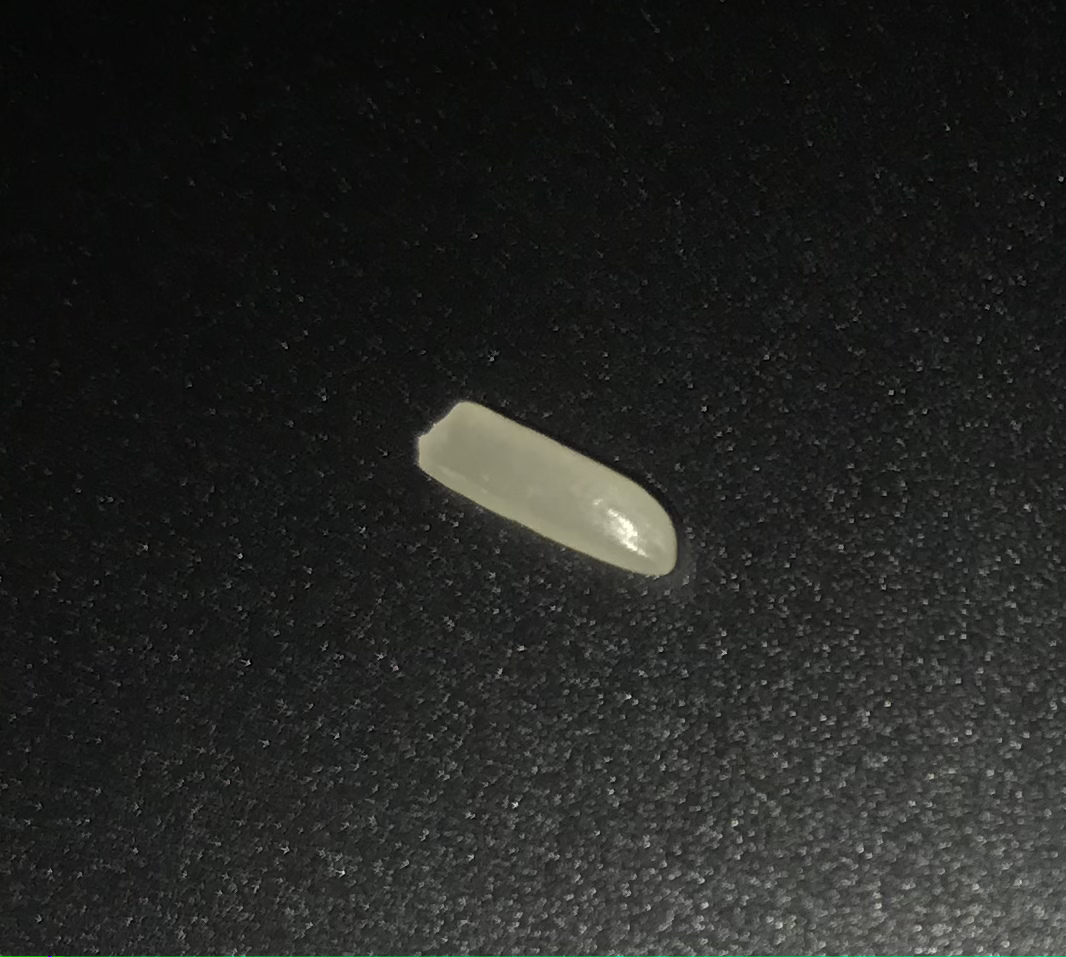Gao Thom My: (390, 361, 716, 608)
